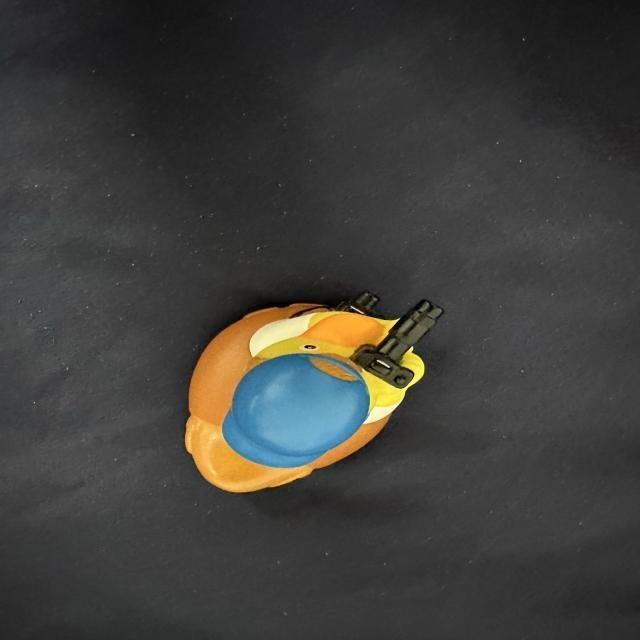rubber-duck: (184, 291, 441, 490)
